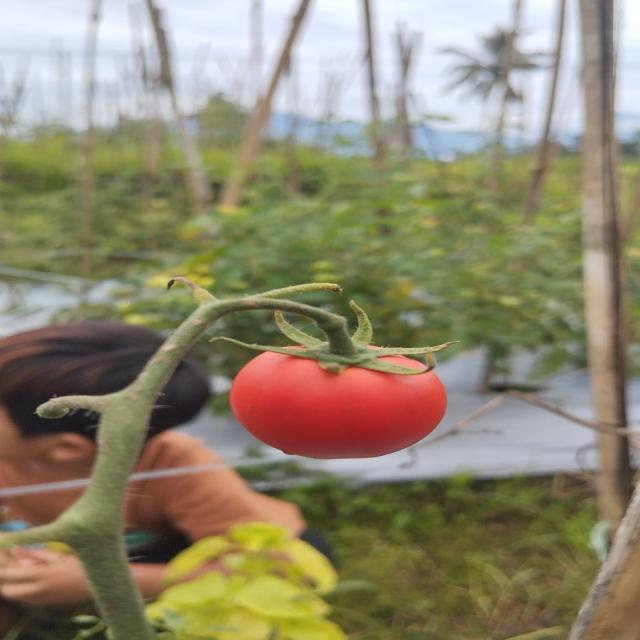Masak: (228, 317, 463, 467)
